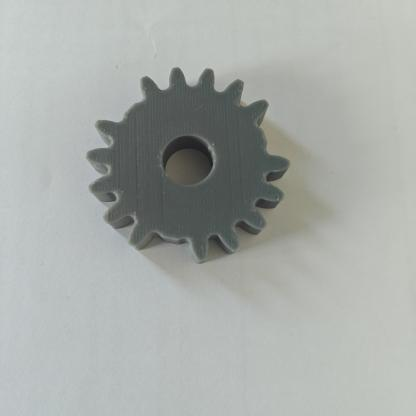defect: (229, 82, 321, 183), (80, 70, 178, 157), (124, 205, 217, 285)
gear: (66, 55, 330, 297)
